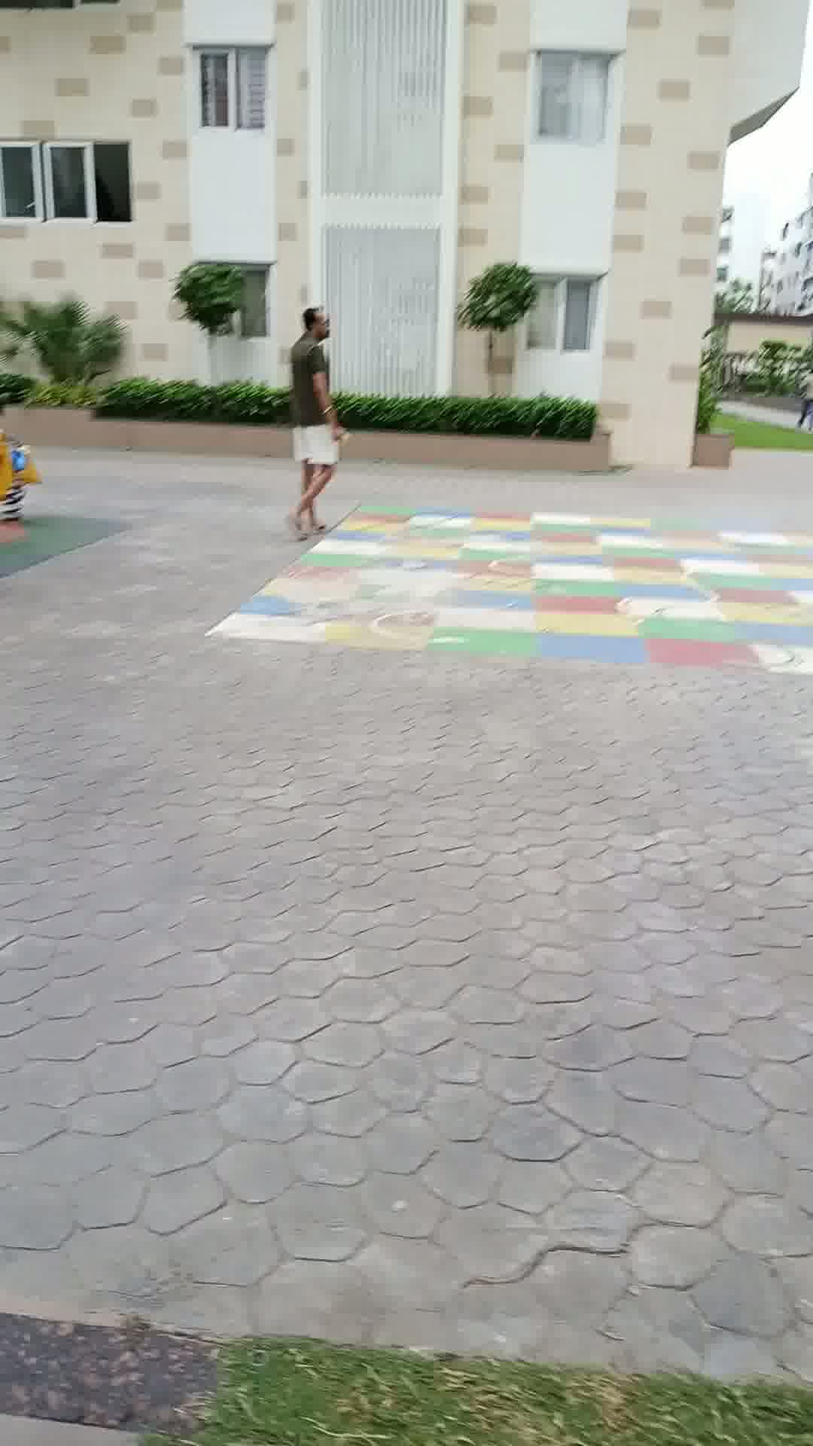person: (279, 296, 356, 558)
tree: (447, 225, 543, 455), (171, 228, 256, 418)
